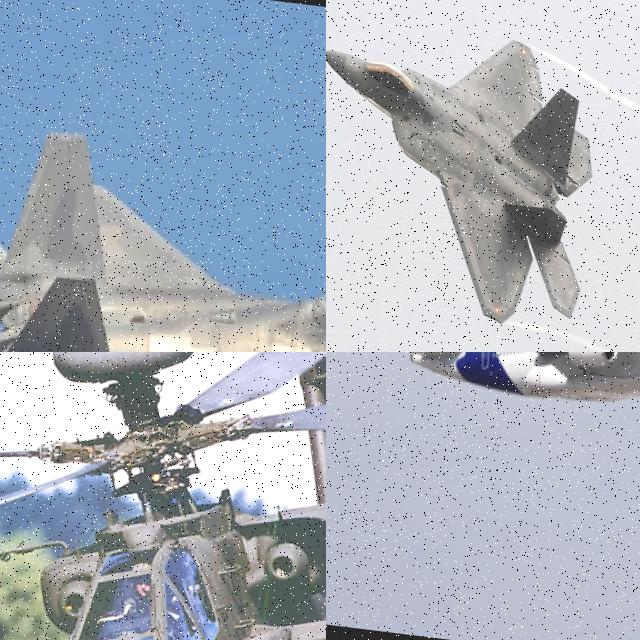A380: (326, 352, 640, 446)
Apache: (0, 352, 326, 640)
F22: (326, 15, 609, 333), (0, 119, 326, 352)
